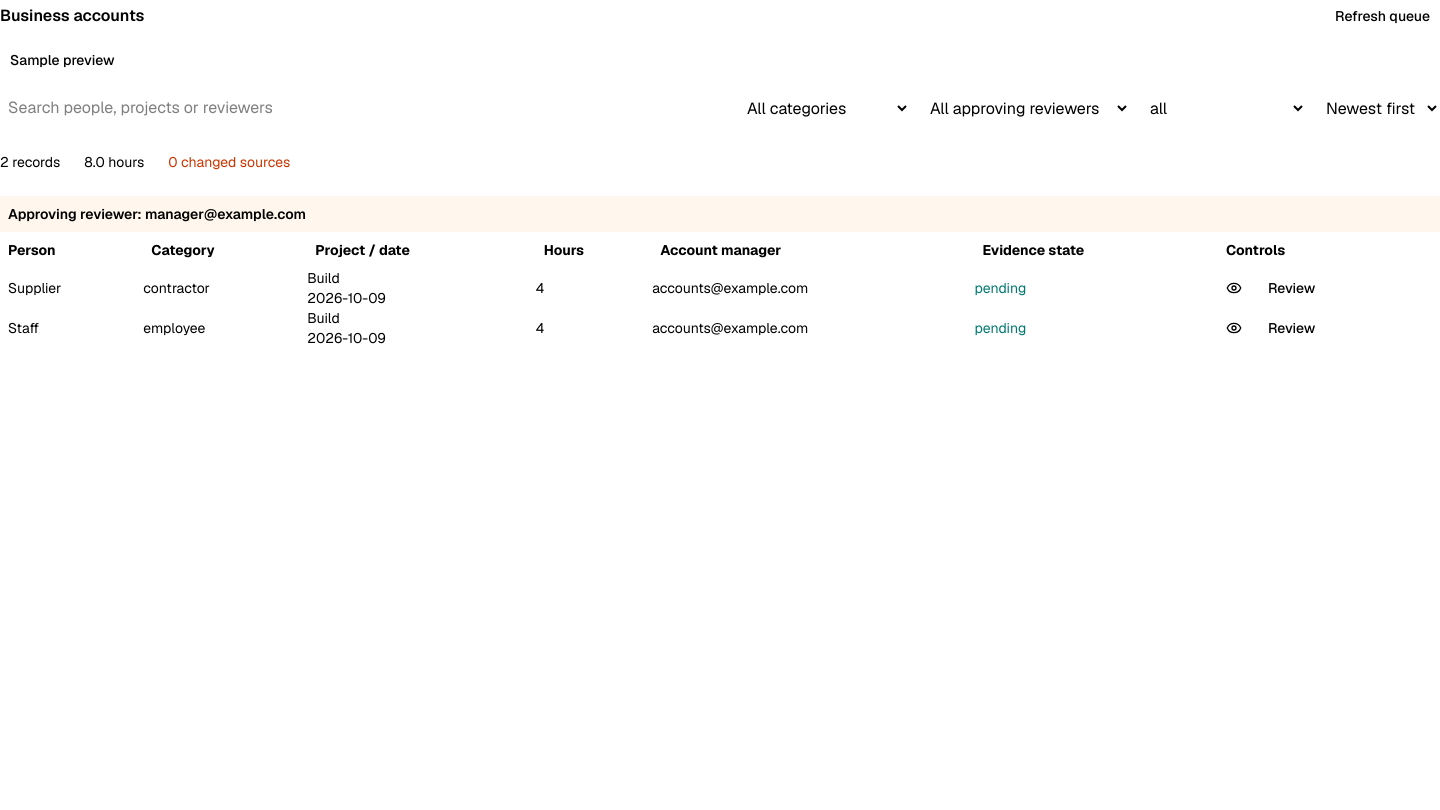
Test case: requires an explicit review note before saving
The image size is (1440, 810).
Check: the text "Supplier" is shown, box left=0, top=268, right=143, bottom=308
Click the button "Review" in the row of "Supplier" at coordinates (1292, 288), box left=1258, top=272, right=1325, bottom=304
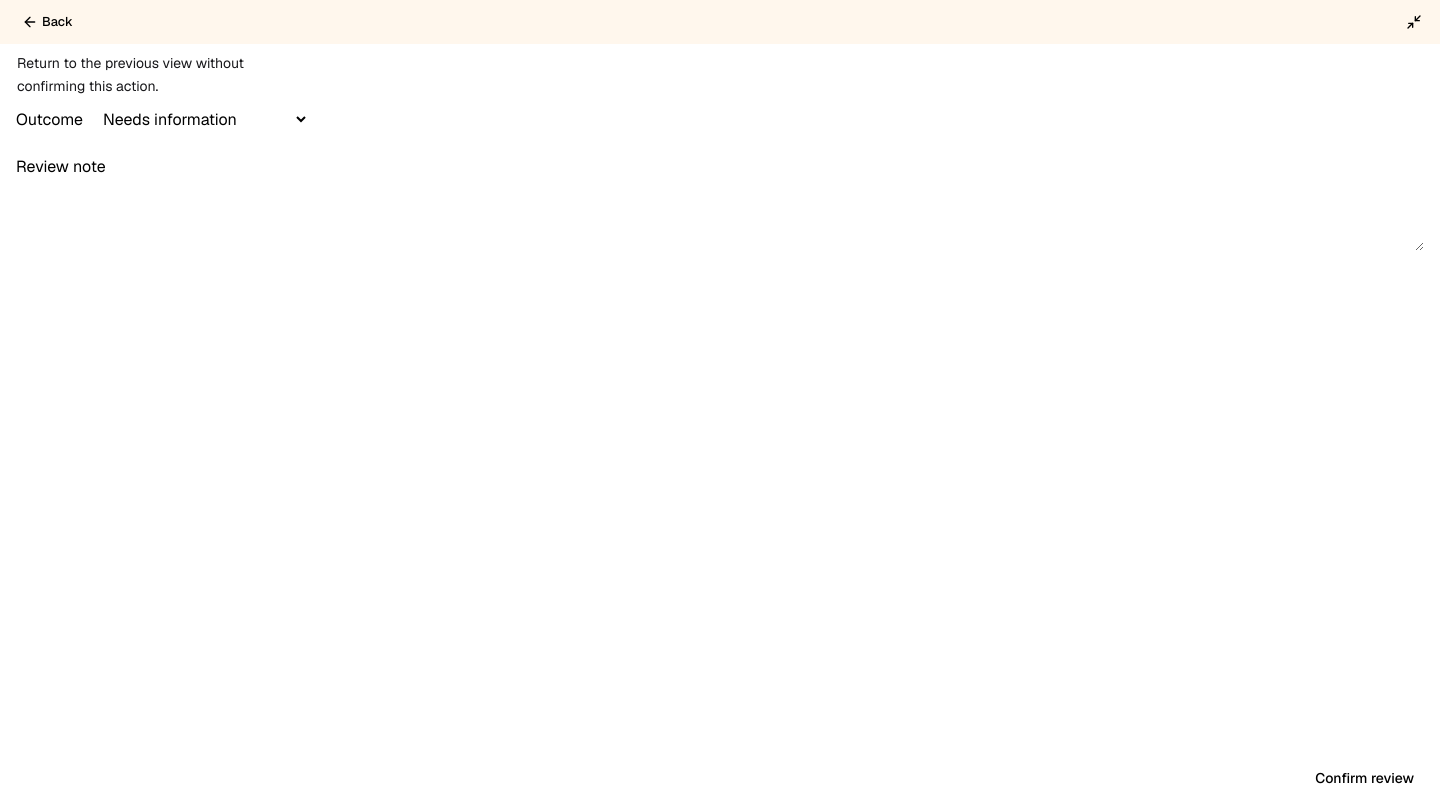
Check: the button "Confirm review" is disabled, box left=1305, top=762, right=1424, bottom=794
